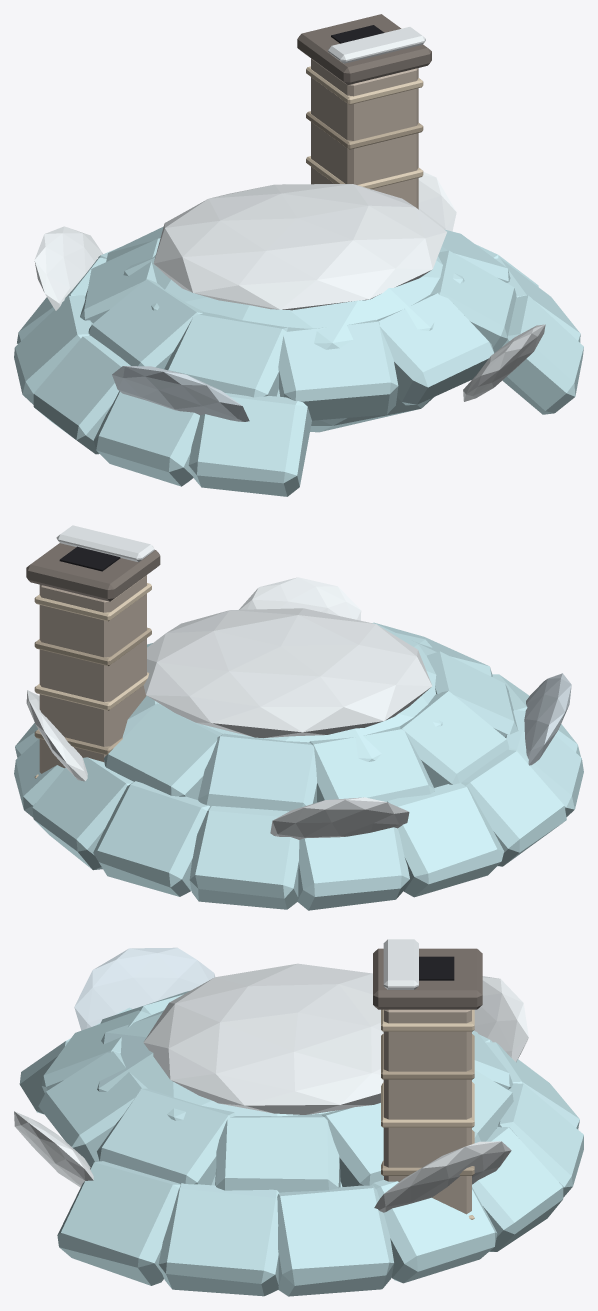
Rendered from mod_roof_snow_dome.glb.
The picture shows the model from 3 angles, top to bottom: view 1: azimuth 30°, elevation 25°; view 2: azimuth 150°, elevation 25°; view 3: azimuth 270°, elevation 25°; orthographic projection. The views are drawn at different scales.
Visible parts, largest first — view 1: mod_roof_snow_dome; view 2: mod_roof_snow_dome; view 3: mod_roof_snow_dome.
Part boxes in pixels (<box>): mod_roof_snow_dome: <box>14,14,583,496</box>; mod_roof_snow_dome: <box>14,525,583,910</box>; mod_roof_snow_dome: <box>14,939,583,1296</box>.
Bounding box in the file's own units: 3.46 × 1.92 × 3.22.
